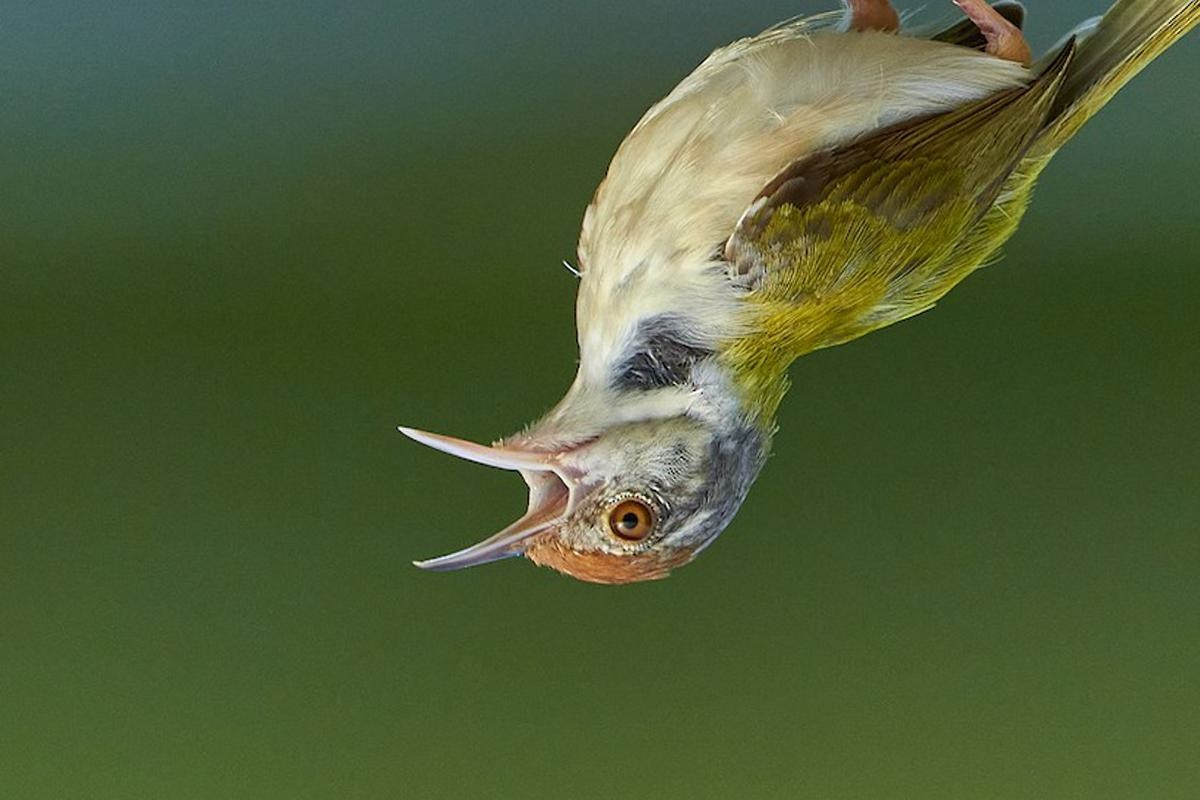tailorbird: (400, 1, 1200, 596)
